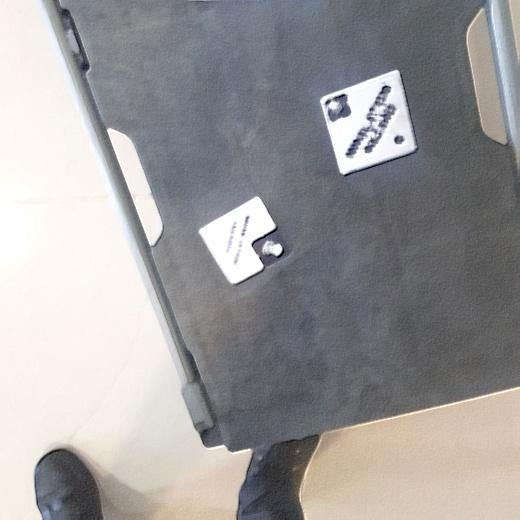poison: (320, 68, 418, 177), (198, 195, 294, 286)
